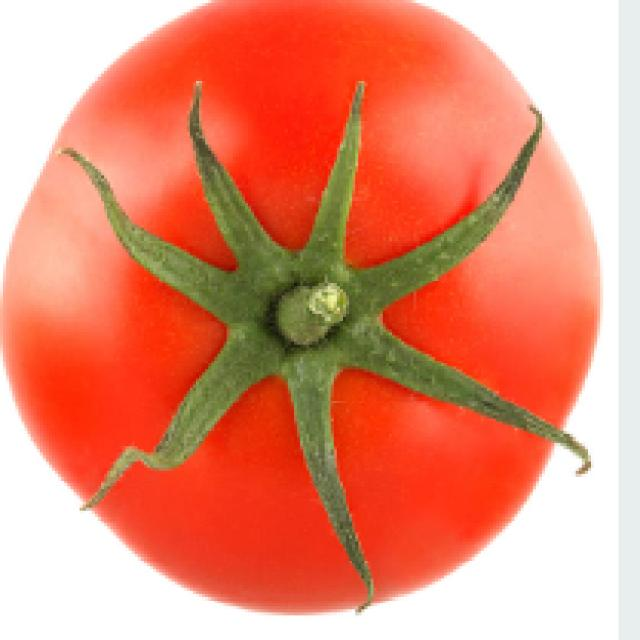Tomato: (13, 13, 598, 623)
